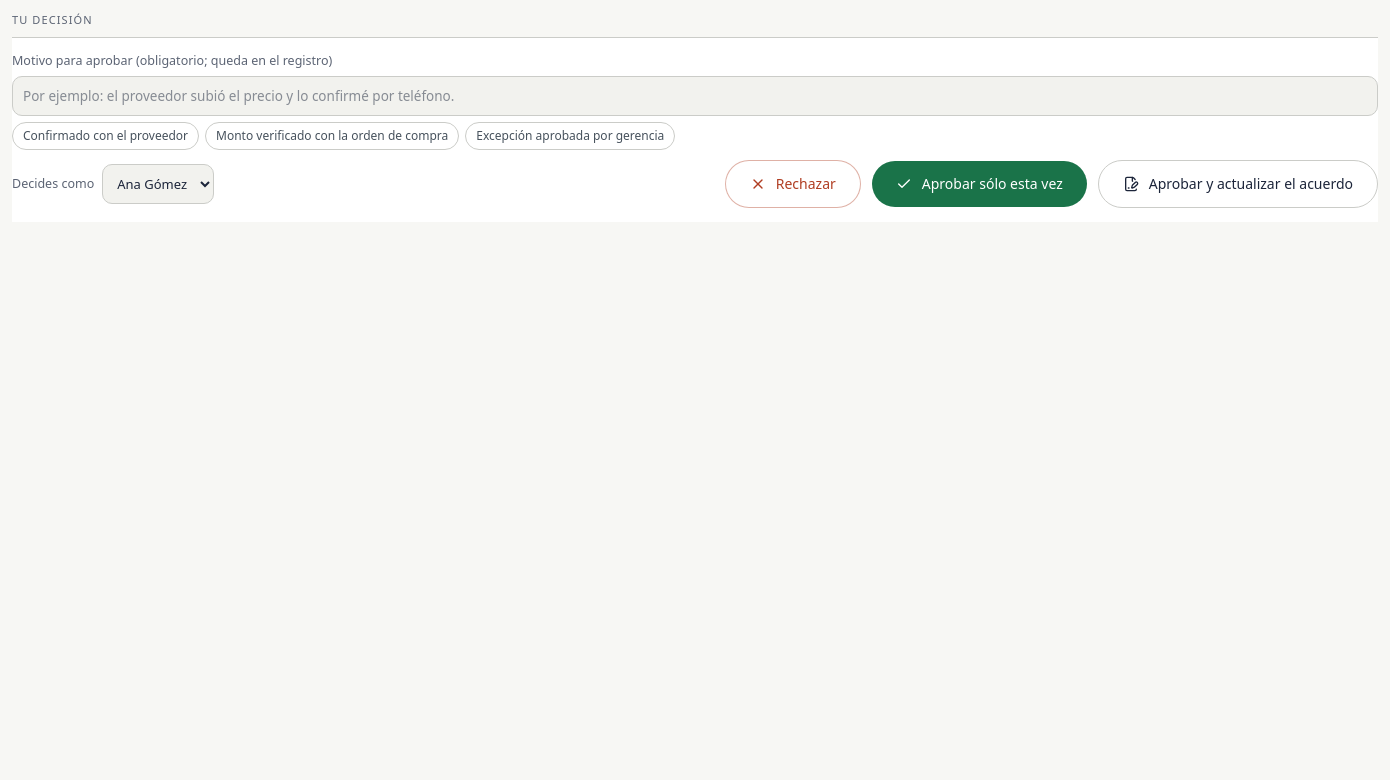
ApprovalChoices › drops the simulation when the agreement is edited after it
This screenshot has width=1390, height=780.
Type "Nuevo contrato firmado" into the field labelled "Motivo para aprobar (obligatorio; queda en el registro)". click: coordinates (695, 96)
box: x1=12 y1=76 x2=1378 y2=116
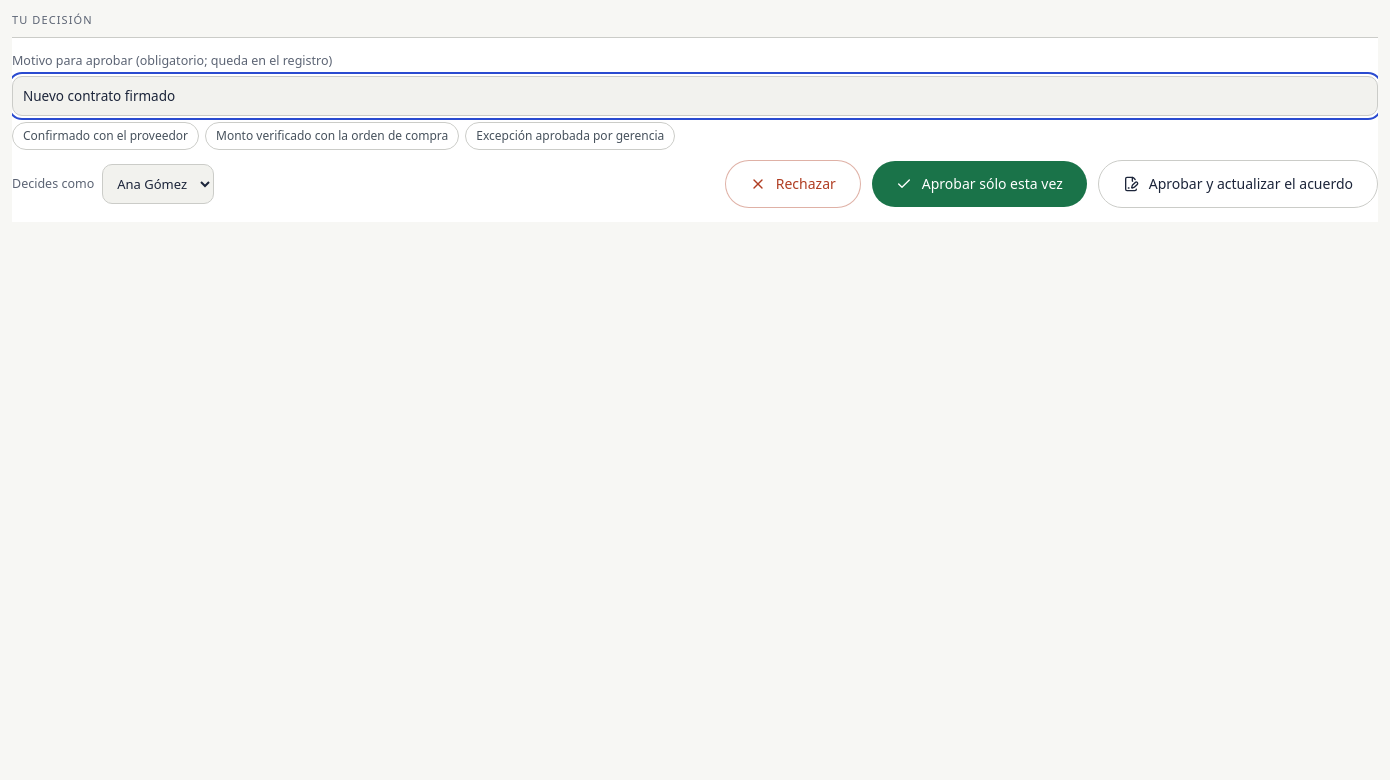
Click the button "Aprobar y actualizar el acuerdo". click: coordinates (1238, 184)
box: x1=1098 y1=160 x2=1378 y2=208
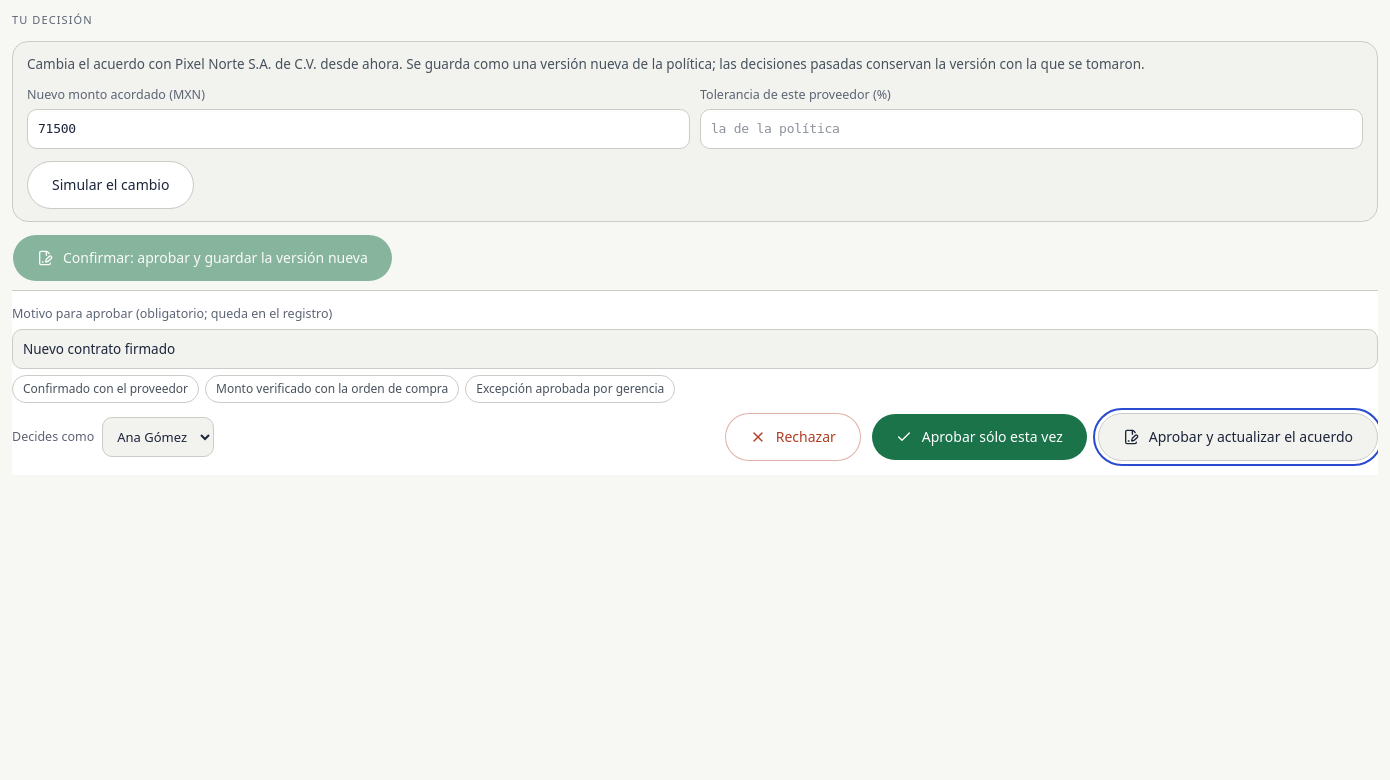
Click the button "Simular el cambio". click: coordinates (111, 184)
box: x1=27 y1=160 x2=194 y2=208
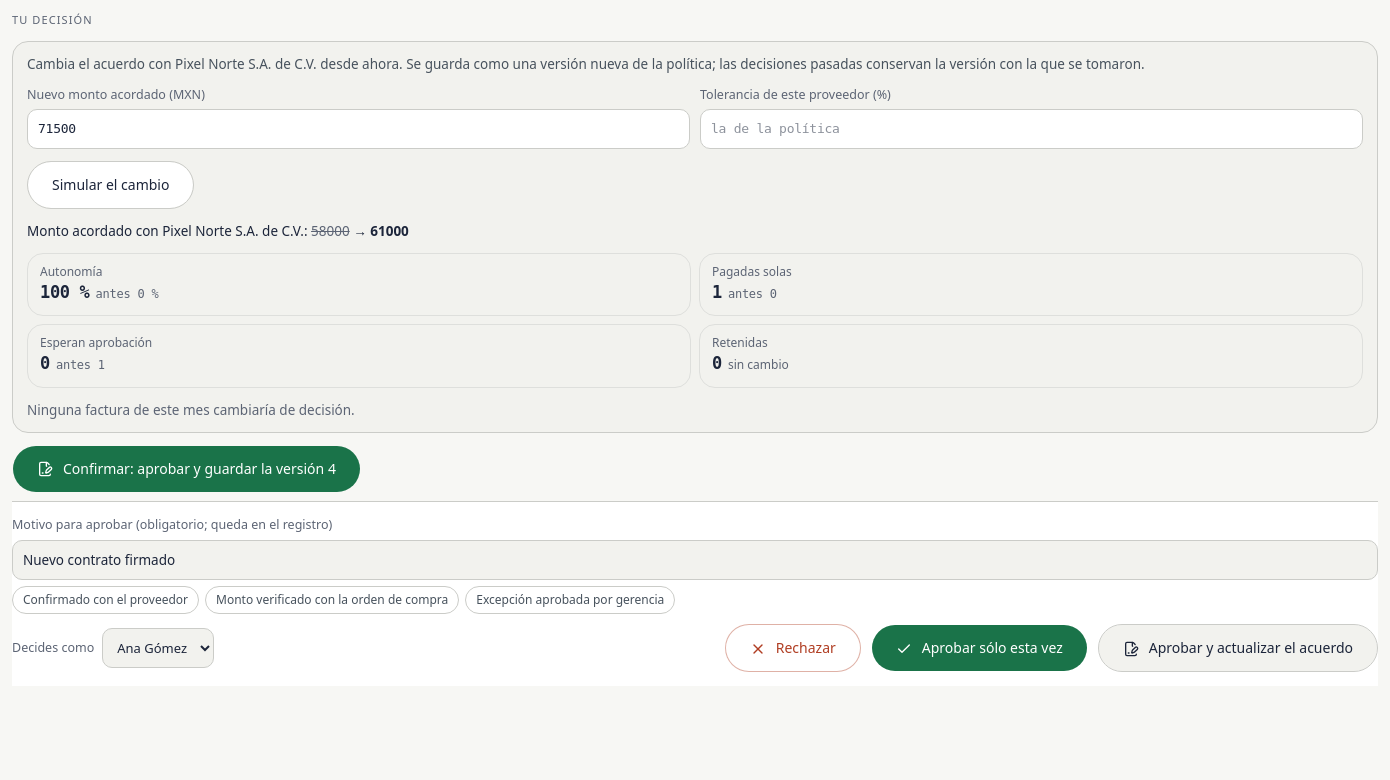
Check: the list item "Monto acordado con Pixel Norte S.A. de C.V.: 58000 → 61000" is shown, box x1=27 y1=222 x2=409 y2=240
Type "5" into the field labelled "Tolerancia de este proveedor (%)". click: coordinates (1032, 128)
box: x1=700 y1=108 x2=1363 y2=148
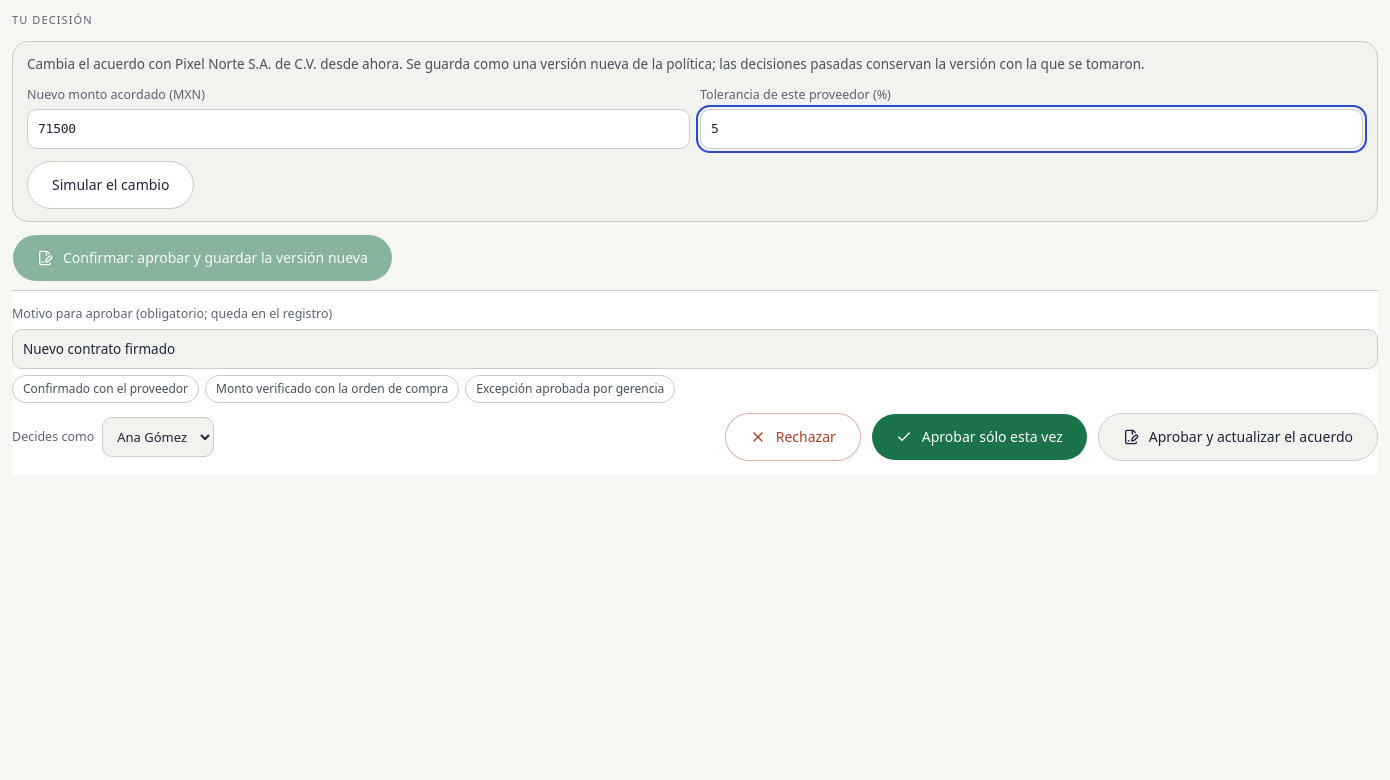
Check: the button "Confirmar: aprobar y guardar la versión nueva" is disabled, box x1=12 y1=234 x2=393 y2=282
